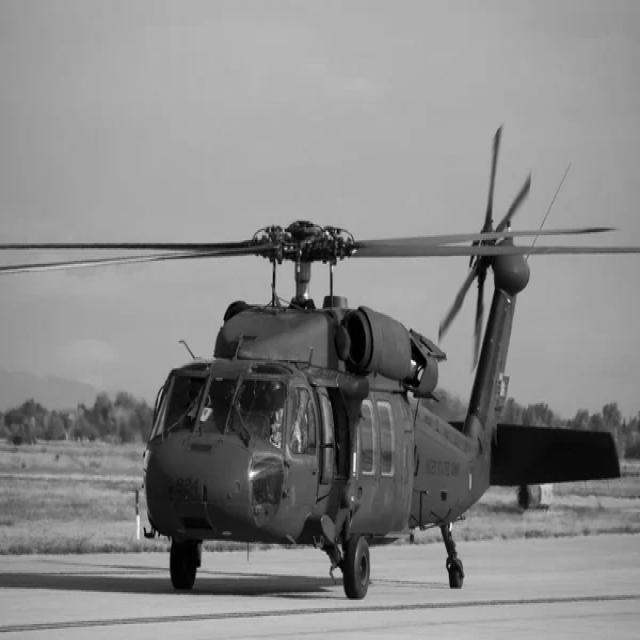Helicopter: (0, 130, 640, 599)
